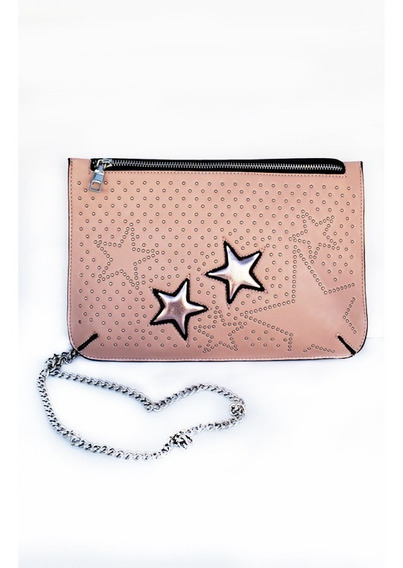cartera: (32, 148, 379, 463)
